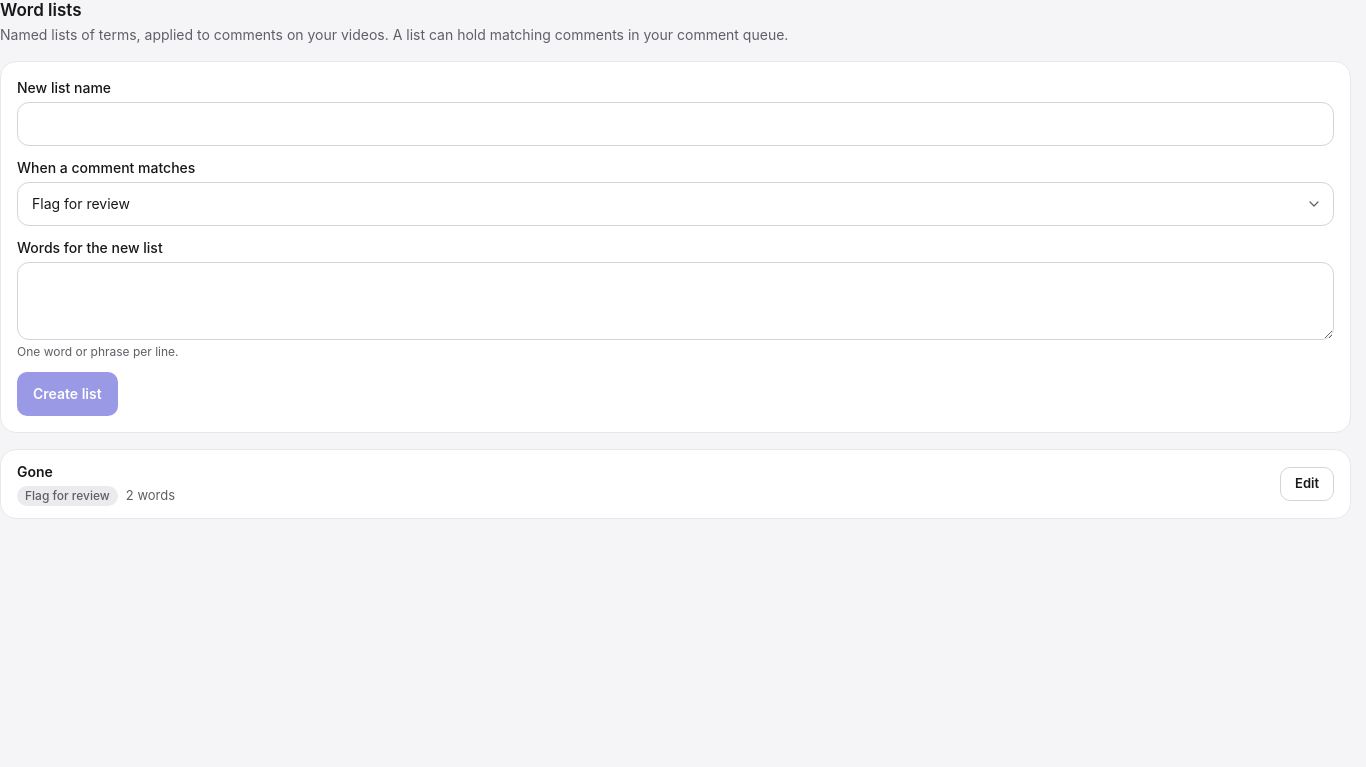
WordListsManager › deletes a list and drops its row
Expected: the text "Gone" is shown, [17, 463, 53, 480]
Click the button with aria-label "Edit list Gone" at (1307, 484), box [1280, 467, 1334, 501]
(page scrolled)
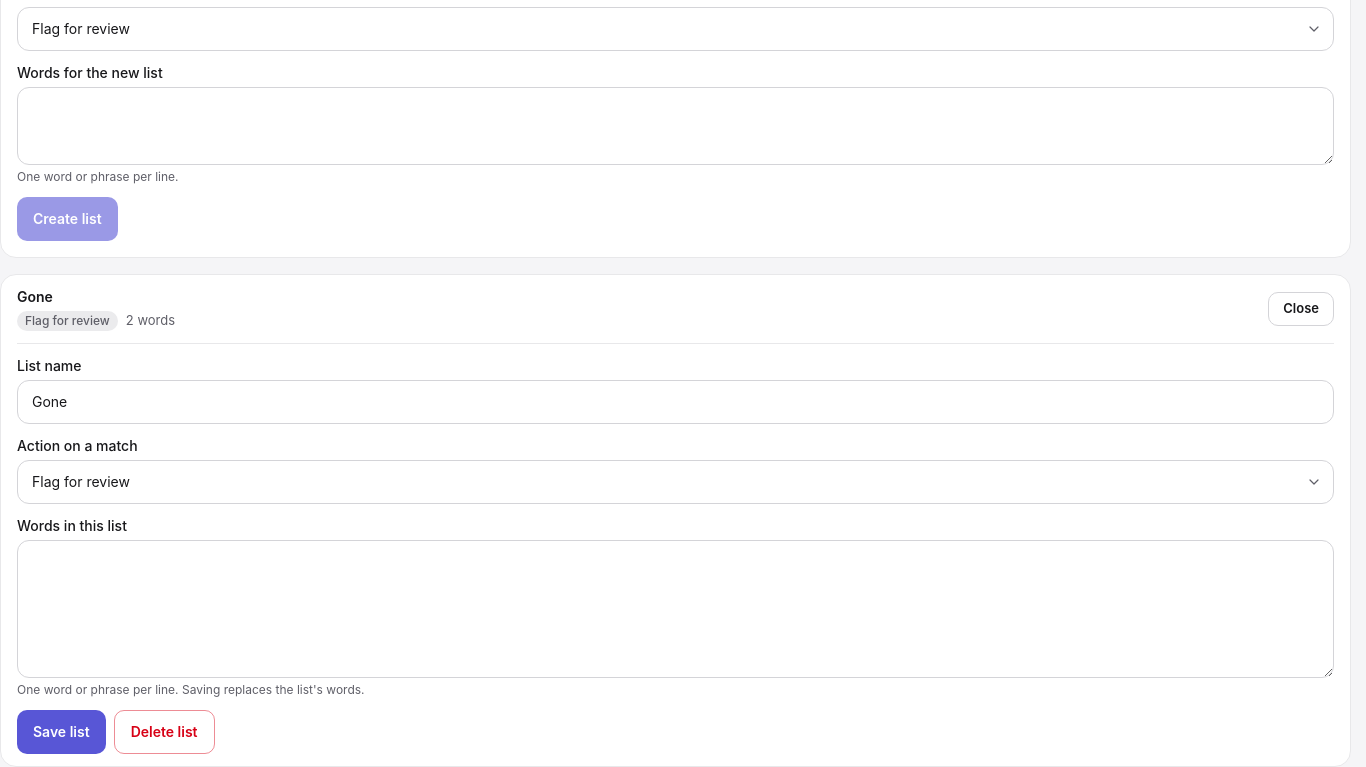
Click the button with aria-label "Delete list Gone" at (164, 732), box [114, 710, 214, 754]
(page scrolled)
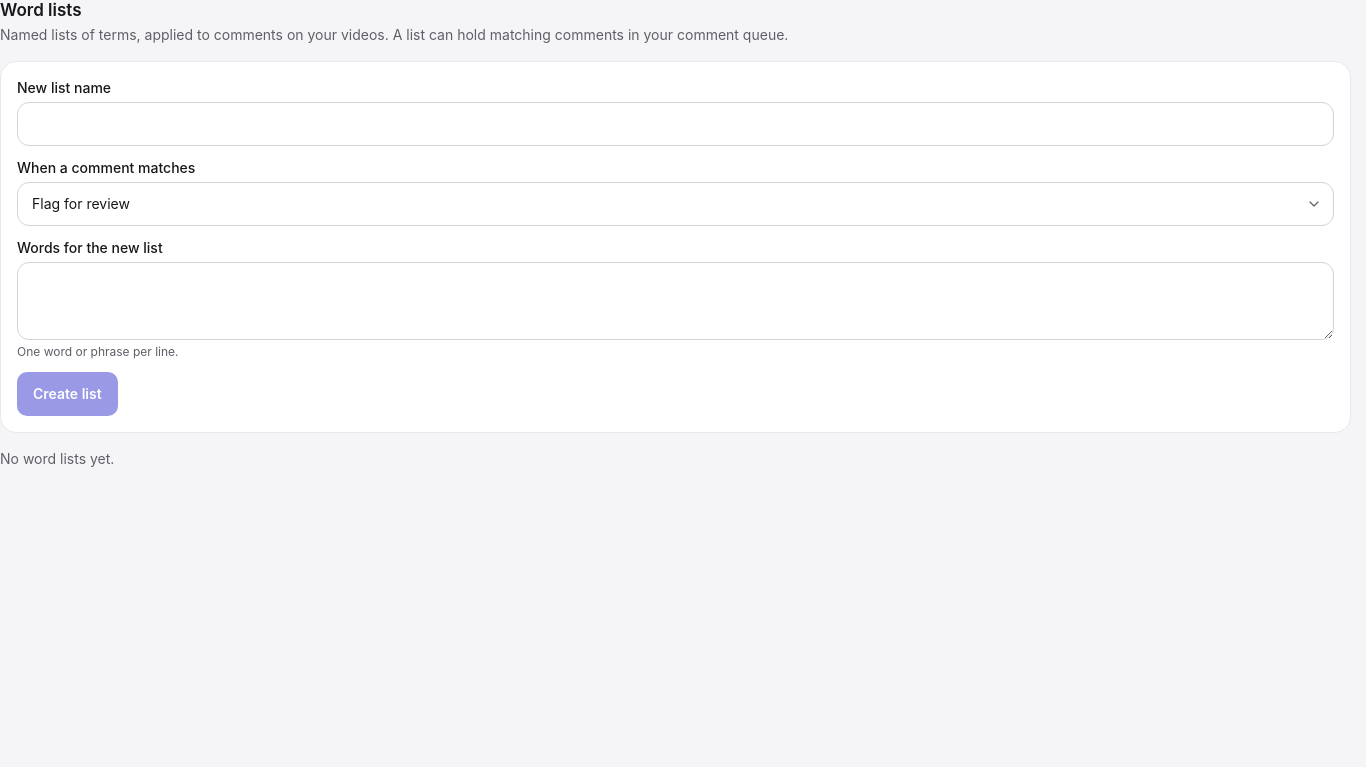
Now the text "Gone" is gone
